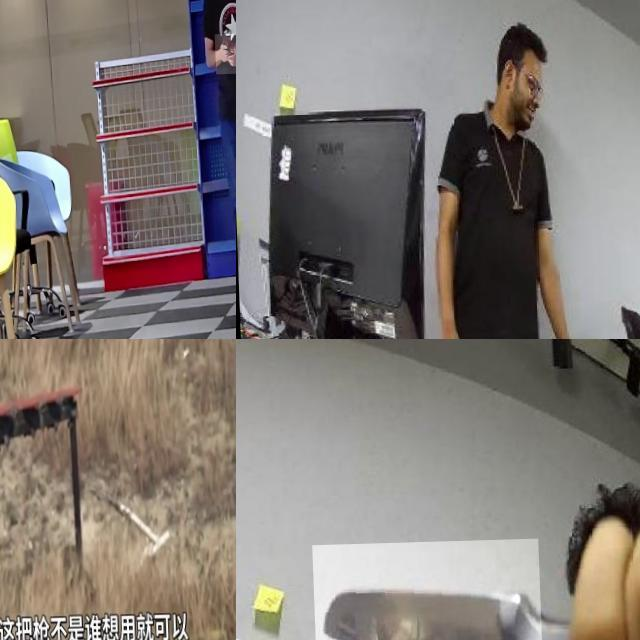-: (310, 541, 541, 640)
gun-knife-thesis - v11 Yolov5 augmented: (0, 339, 69, 424), (212, 36, 236, 77)
